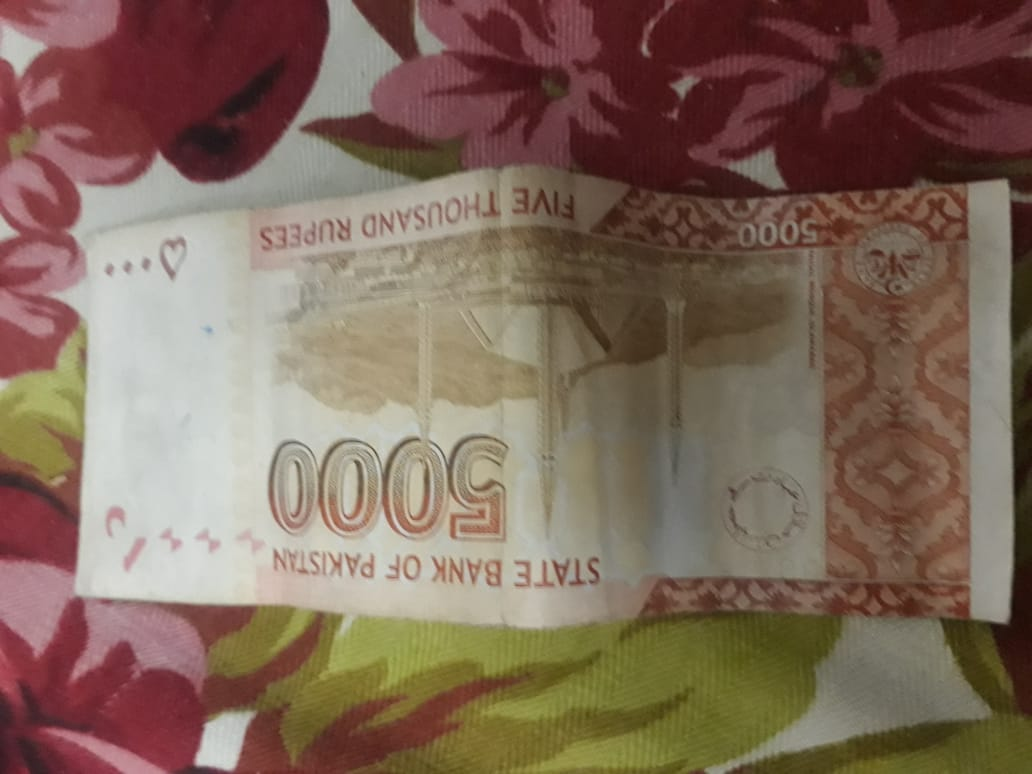5000 rupee: (75, 166, 1008, 650)
